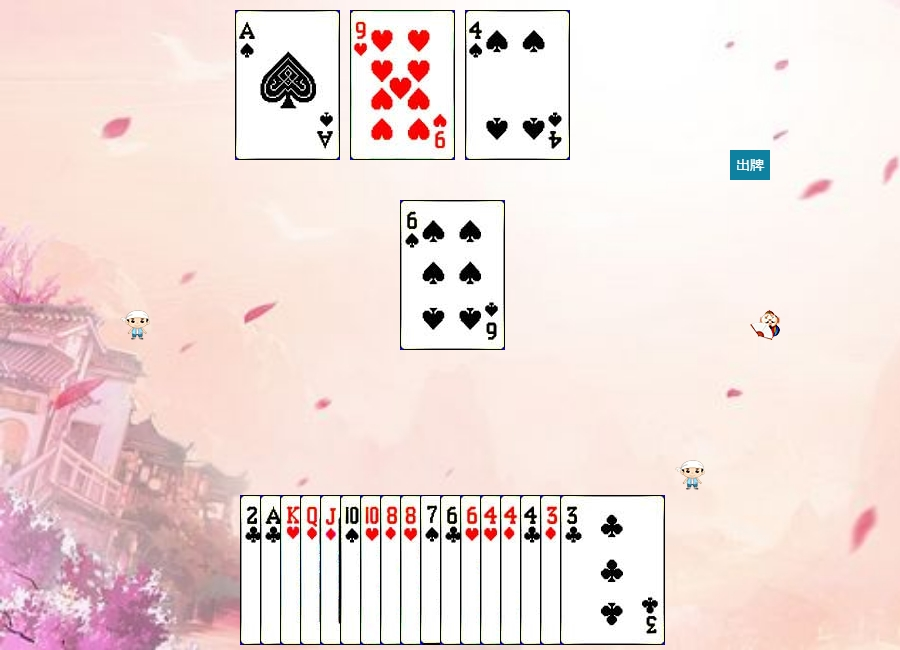10~3: (360, 495, 465, 645)
10~4: (340, 495, 445, 645)
11~1: (320, 495, 425, 645)
12~1: (300, 495, 405, 645)
13~3: (280, 495, 385, 645)
14~2: (260, 495, 365, 645)
14~4: (235, 10, 340, 160)
15~2: (240, 495, 345, 645)
3~1: (540, 495, 645, 645)
3~2: (560, 495, 665, 645)
4~1: (500, 495, 605, 645)
4~2: (520, 495, 625, 645)
4~3: (480, 495, 585, 645)
4~4: (465, 10, 570, 160)
6~2: (440, 495, 545, 645)
6~3: (460, 495, 565, 645)
6~4: (400, 200, 505, 350)
7~4: (420, 495, 525, 645)
8~1: (380, 495, 485, 645)
8~3: (400, 495, 505, 645)
9~3: (350, 10, 455, 160)
